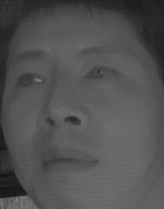eye: (80, 63, 121, 85), (14, 70, 49, 94)
mouth: (38, 140, 99, 179)
